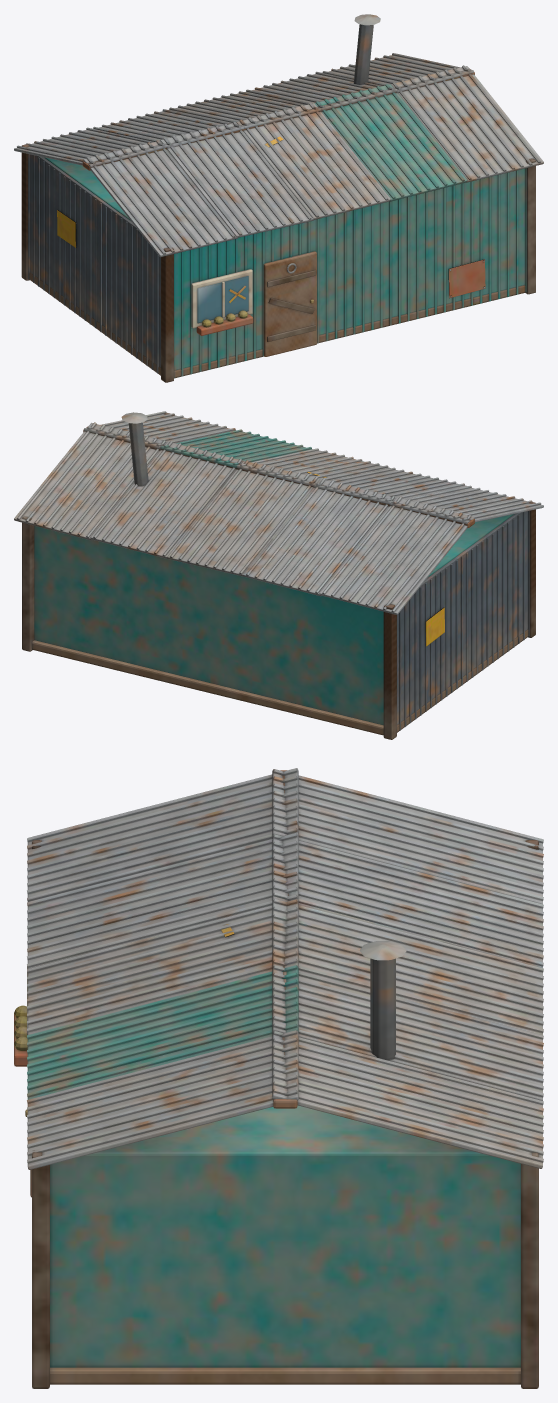
Rendered from workshop_shed.glb.
The picture shows the model from 3 angles, top to bottom: view 1: azimuth 30°, elevation 25°; view 2: azimuth 150°, elevation 25°; view 3: azimuth 270°, elevation 25°; orthographic projection. The views are drawn at different scales.
Parts seen in each view (by area): view 1: WorkshopShed_Mesh; view 2: WorkshopShed_Mesh; view 3: WorkshopShed_Mesh.
Part boxes in pixels (box(x1,y1,x2,y2)): WorkshopShed_Mesh: box(14, 14, 543, 382); WorkshopShed_Mesh: box(14, 411, 543, 739); WorkshopShed_Mesh: box(14, 768, 543, 1388).
Bounding box in the file's own units: 9.6 × 5.21 × 6.5.
Materials: 1 (1 with a texture image).
